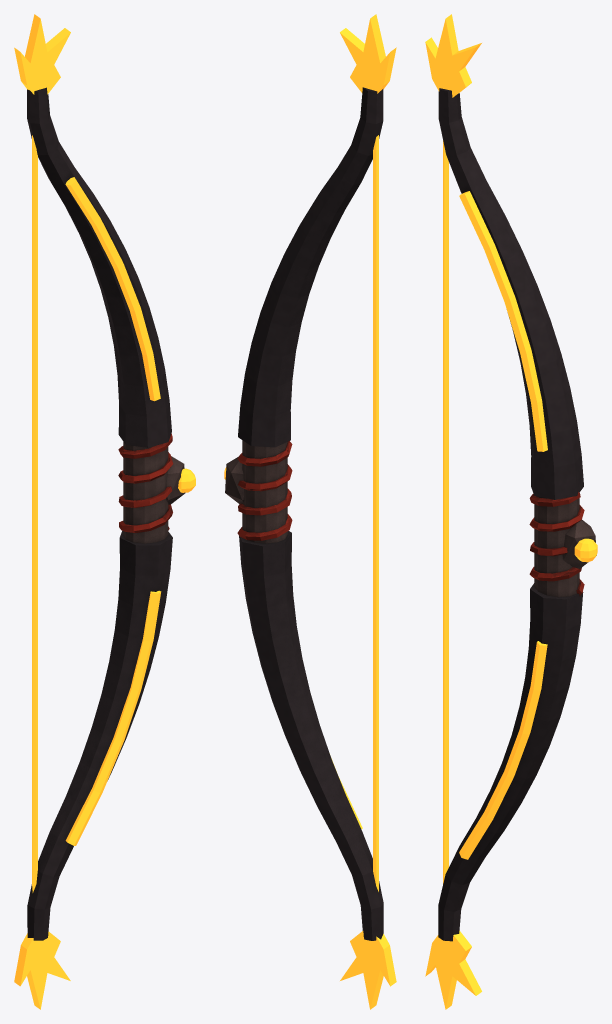
File: 06_volcano_ranged.fbx
3 renders of one model, left to right at view 1: azimuth 30°, elevation 25°; view 2: azimuth 150°, elevation 25°; view 3: azimuth 330°, elevation 25°, orthographic.
Visible parts, largest first — view 1: Weapon; view 2: Weapon; view 3: Weapon.
Part boxes in pixels (left/top/right/bottom): Weapon: left=14, top=14, right=195, bottom=1009; Weapon: left=224, top=14, right=396, bottom=1009; Weapon: left=425, top=14, right=597, bottom=1009.
Size of the model in its own units: 25.52 by 140 by 7.31.
2 materials, 1 textured.
